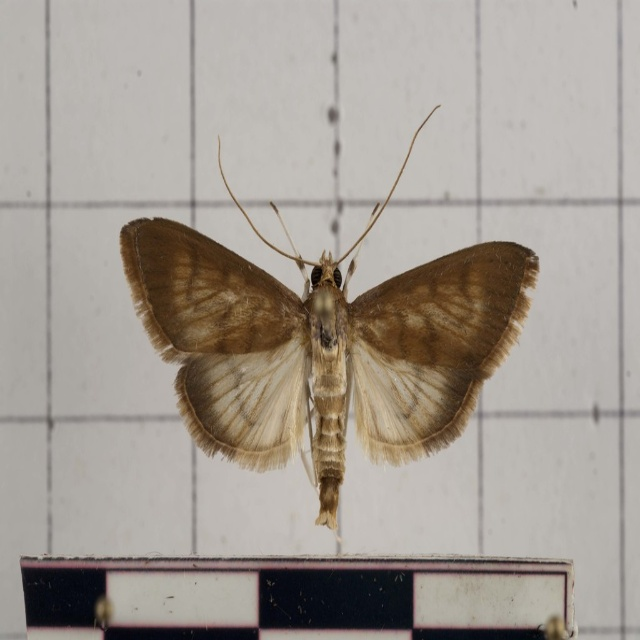Butterfly: (116, 110, 534, 537)
